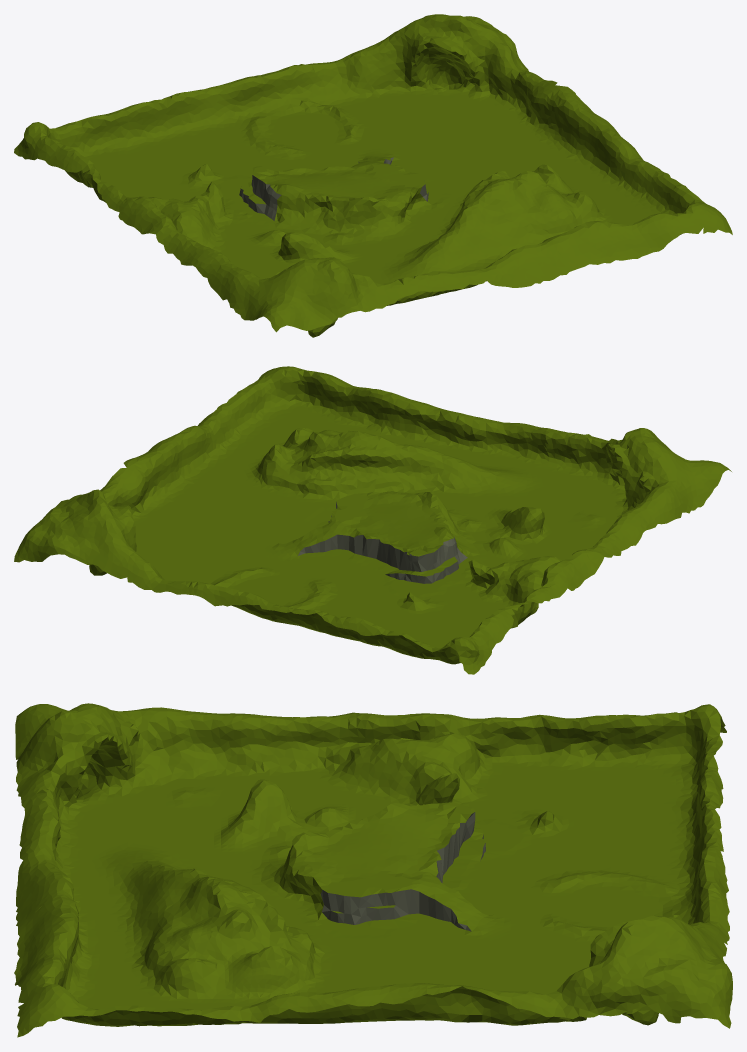
The model's file is terrain.fbx.
The picture shows the model from 3 angles, top to bottom: view 1: azimuth 30°, elevation 25°; view 2: azimuth 150°, elevation 25°; view 3: azimuth 270°, elevation 25°; orthographic projection. The views are drawn at different scales.
Parts seen in each view (by area): view 1: Plane; view 2: Plane; view 3: Plane.
Boxes of the visible parts, left/top/right/bottom form: Plane: left=14, top=14, right=732, bottom=337; Plane: left=14, top=366, right=731, bottom=674; Plane: left=14, top=703, right=732, bottom=1037.
Size of the model in its own units: 20170 by 3416 by 20104.
1 material, 1 textured.
